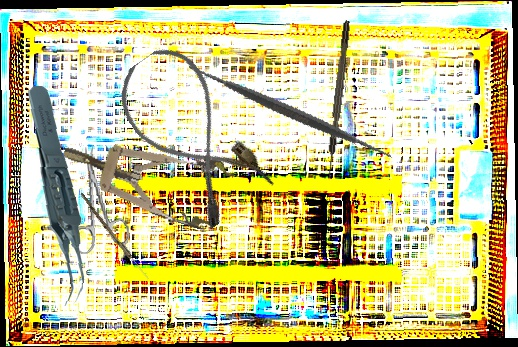Cannula: (104, 36, 278, 233)
Hook Surgical: (324, 20, 352, 181)
Iris Scissors: (62, 142, 132, 256)
Spatula Surgical: (185, 7, 395, 215)
Speculum: (54, 116, 237, 235)
Surgical Spoon: (78, 192, 151, 281)
Tissue Forceps: (16, 85, 94, 307)
